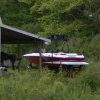Boat: (17, 43, 92, 75)
